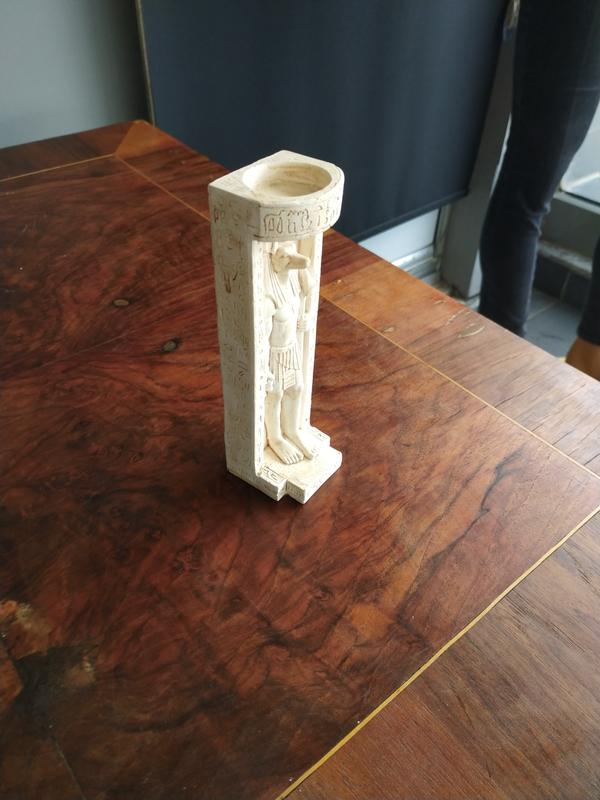heykel: (199, 145, 360, 512)
